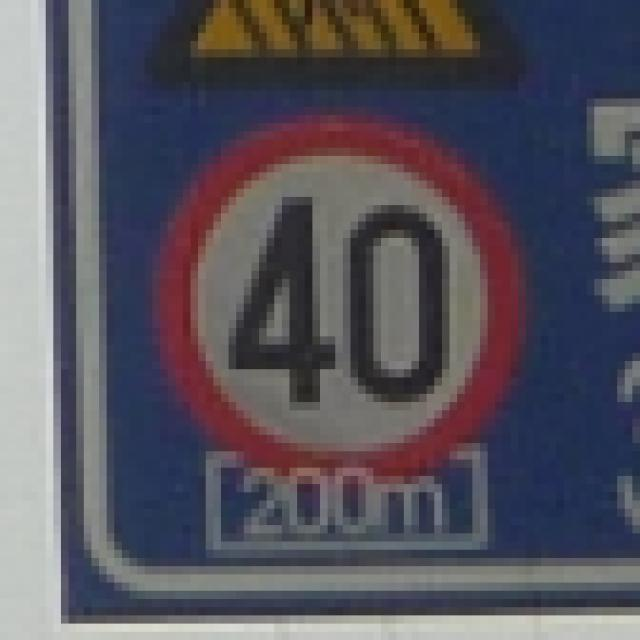Speed: (151, 107, 535, 465)
